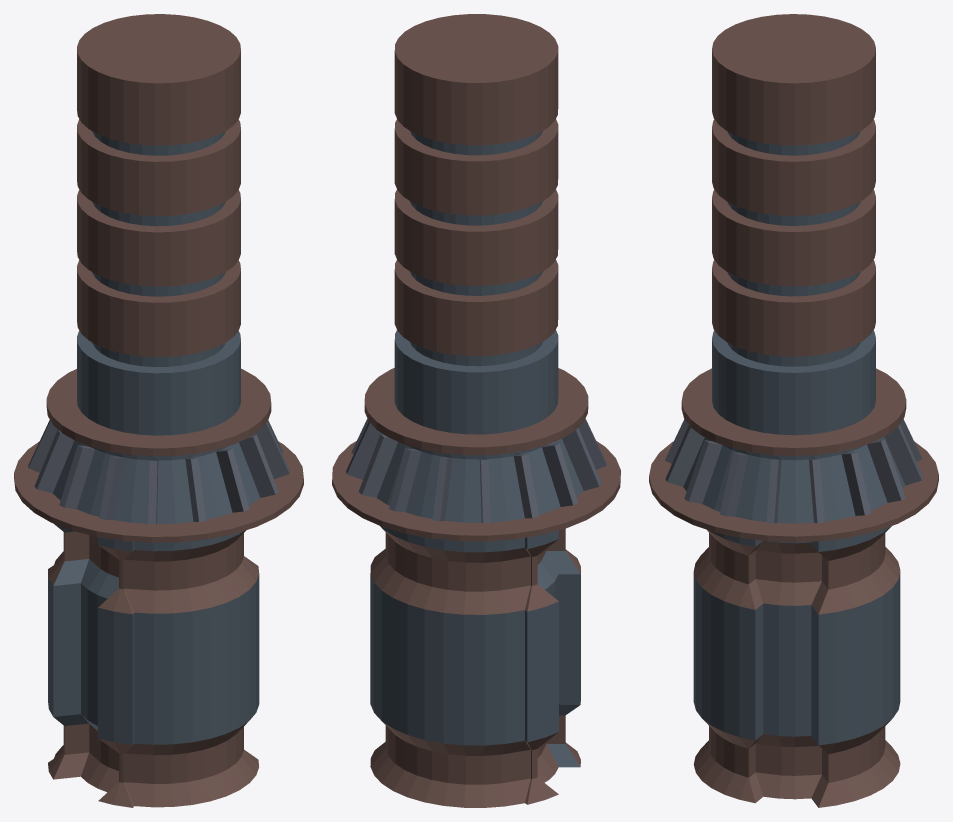
File: 远处巨型打桩机_002.fbx
3 renders of one model, left to right at view 1: azimuth 30°, elevation 25°; view 2: azimuth 150°, elevation 25°; view 3: azimuth 270°, elevation 25°, orthographic.
Parts seen in each view (by area): view 1: 远处巨型打桩机.002; view 2: 远处巨型打桩机.002; view 3: 远处巨型打桩机.002.
Part boxes in pixels (<box>): 远处巨型打桩机.002: <box>14,14,303,807</box>; 远处巨型打桩机.002: <box>332,14,620,807</box>; 远处巨型打桩机.002: <box>649,14,938,807</box>.
Bounding box in the file's own units: 2.51 × 6.84 × 2.51.
